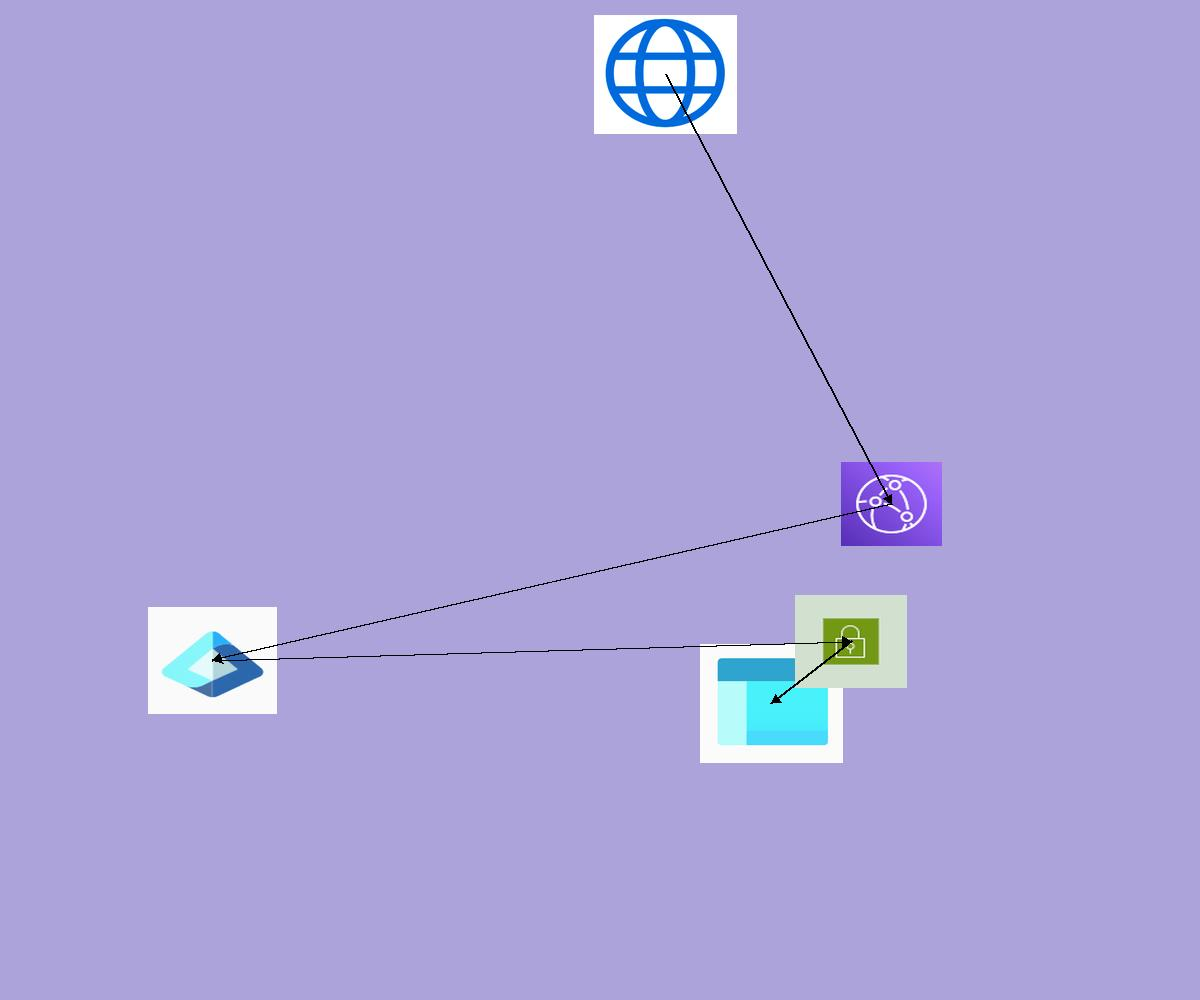AWS-CloudFront: (841, 462, 942, 546)
AWS-Public-subnet: (795, 595, 907, 688)
Azure_http: (594, 15, 737, 134)
Azure_management-portal: (700, 644, 843, 763)
Azure_microsoft_entra: (148, 607, 277, 714)
